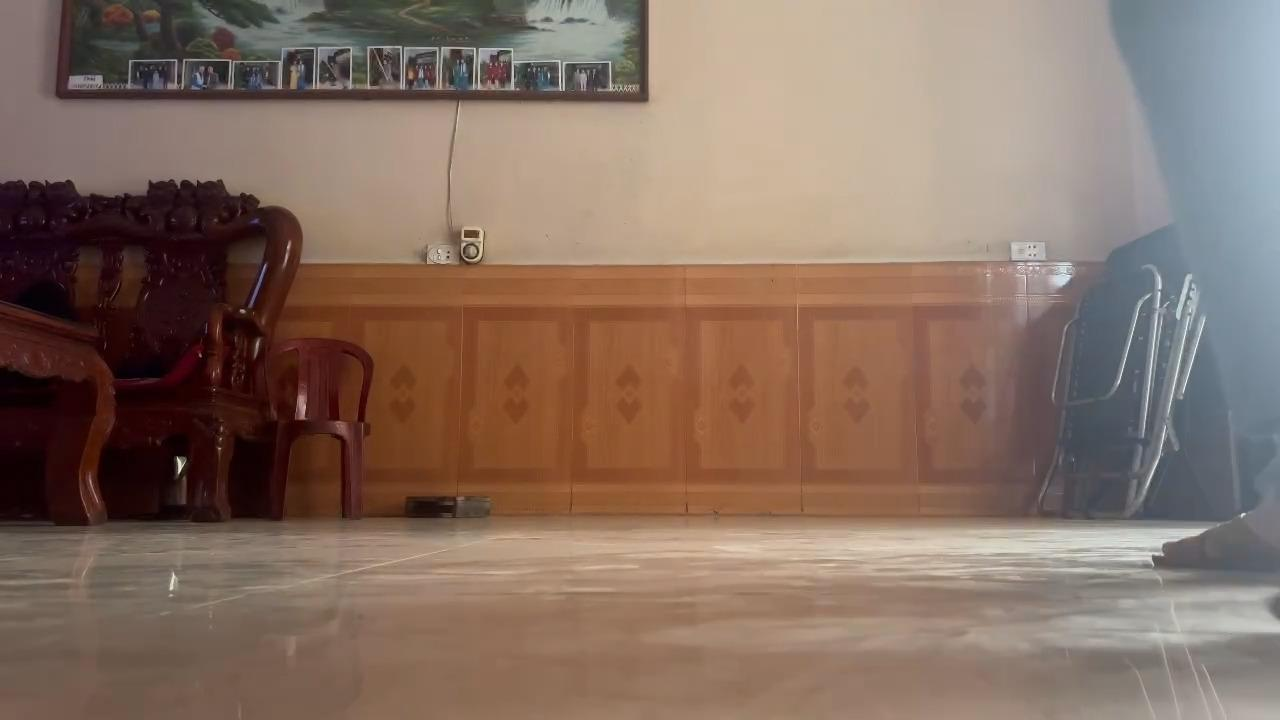no-boot: (1143, 497, 1280, 585)
